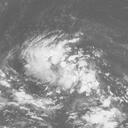cyclone: (44, 38, 98, 89)
